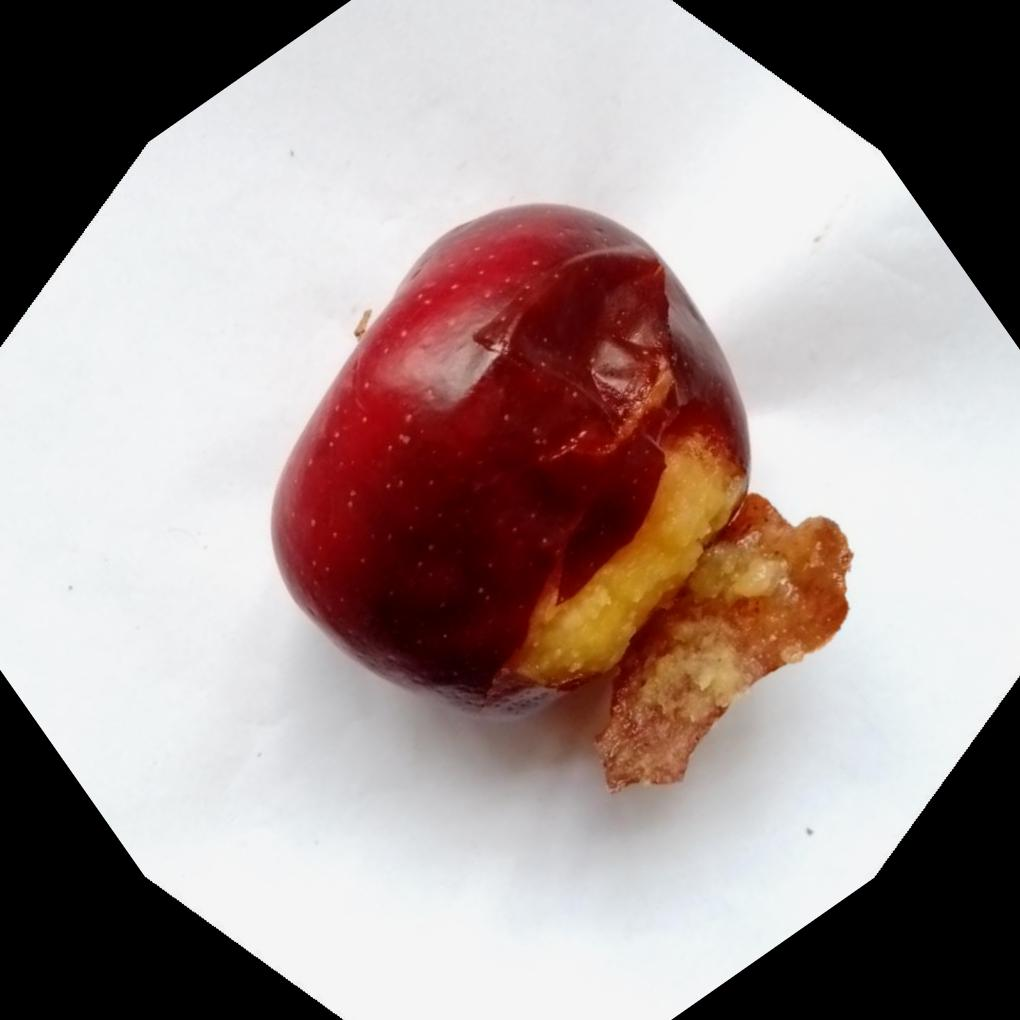FreshOrange: (265, 199, 849, 788)
